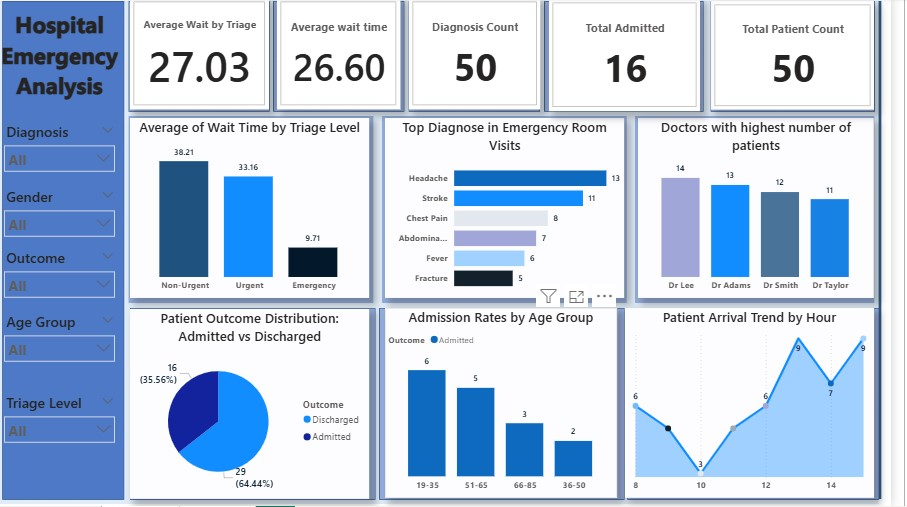

This screenshot's page, from the dashboard's own definition file:
{"tool":"powerbi","page":{"name":"Page 2","canvas":[1280,720],"ordinal":0},"visuals":[{"type":"cardVisual","fields":{"Data":["Measure table.Average Wait by Triage"]},"box":[203.3,0,196.5,157.9],"z":0},{"type":"cardVisual","fields":{"Data":["Measure table.Average wait time"]},"box":[411.5,0,174.7,157.9],"z":1},{"type":"cardVisual","fields":{"Data":["Measure table.Diagnosis Count"]},"box":[598,0,186.5,157.9],"z":2},{"type":"columnChart","title":"Average of Wait Time by Triage Level","fields":{"Category":["Hospital Emergency Data.Triage Level"],"Y":["Hospital Emergency Data.Wait Time (mins)"]},"box":[203.3,169.7,339.3,255.3],"z":3},{"type":"barChart","title":"Top Diagnose in Emergency Room Visits","fields":{"Category":["Hospital Emergency Data.Diagnosis"],"Y":["Hospital Emergency Data.Patient ID"]},"box":[564.4,169.7,339.3,255.3],"z":4},{"type":"columnChart","title":"Doctors with highest number of patients","fields":{"Category":["Hospital Emergency Data.Doctor Name"],"Y":["Hospital Emergency Data.Patient ID"]},"box":[922.2,169.7,334.3,255.3],"z":5},{"type":"pieChart","title":"Patient Outcome Distribution: Admitted vs Discharged","fields":{"Category":["Hospital Emergency Data.Outcome"],"Y":["Hospital Emergency Data.Patient ID"]},"box":[203.3,440.1,339.3,268.8],"z":6},{"type":"columnChart","title":"Admission Rates by Age Group","fields":{"Category":["Hospital Emergency Data.Age Group"],"Series":["Hospital Emergency Data.Outcome"],"Y":["Hospital Emergency Data.Patient ID"]},"box":[564.3,440,328.6,268.6],"z":7},{"type":"areaChart","title":"Patient Arrival Trend by Hour","fields":{"Category":["Hospital Emergency Data.Hours"],"Y":["Hospital Emergency Data.Patient ID"]},"box":[904.3,440,352.9,268.6],"z":8},{"type":"textbox","box":[14.3,10,177.1,148.6],"z":9},{"type":"slicer","fields":{"Values":["Hospital Emergency Data.Diagnosis"]},"box":[14.3,170,177.1,92.9],"z":10},{"type":"slicer","fields":{"Values":["Hospital Emergency Data.Gender"]},"box":[14.3,262.9,177.1,97.1],"z":11},{"type":"slicer","fields":{"Values":["Hospital Emergency Data.Outcome"]},"box":[14.3,348.6,177.1,91.4],"z":12},{"type":"slicer","fields":{"Values":["Hospital Emergency Data.Age Group"]},"box":[14.3,440,177.1,114.3],"z":13},{"type":"slicer","fields":{"Values":["Hospital Emergency Data.Triage Level"]},"box":[14,554,177,155],"z":14},{"type":"cardVisual","fields":{"Data":["Measure table.Total Patient Count"]},"box":[1025.7,4.3,231.4,154.3],"z":15},{"type":"cardVisual","fields":{"Data":["Measure table.Total Admitted"]},"box":[797.1,1.4,214.3,158.6],"z":16}]}

Visuals, with their boxes in screenshot pixels (x1, y1, x2, y2), scaled from the page's 1280x720 canvas onto the 907x507 screenshot:
cardVisual - Measure table.Average Wait by Triage: [x1=144, y1=0, x2=283, y2=111]
cardVisual - Measure table.Average wait time: [x1=292, y1=0, x2=415, y2=111]
cardVisual - Measure table.Diagnosis Count: [x1=424, y1=0, x2=556, y2=111]
"Average of Wait Time by Triage Level" columnChart: [x1=144, y1=119, x2=384, y2=299]
"Top Diagnose in Emergency Room Visits" barChart: [x1=400, y1=119, x2=640, y2=299]
"Doctors with highest number of patients" columnChart: [x1=653, y1=119, x2=890, y2=299]
"Patient Outcome Distribution: Admitted vs Discharged" pieChart: [x1=144, y1=310, x2=384, y2=499]
"Admission Rates by Age Group" columnChart: [x1=400, y1=310, x2=633, y2=499]
"Patient Arrival Trend by Hour" areaChart: [x1=641, y1=310, x2=891, y2=499]
textbox: [x1=10, y1=7, x2=136, y2=112]
slicer - Hospital Emergency Data.Diagnosis: [x1=10, y1=120, x2=136, y2=185]
slicer - Hospital Emergency Data.Gender: [x1=10, y1=185, x2=136, y2=254]
slicer - Hospital Emergency Data.Outcome: [x1=10, y1=245, x2=136, y2=310]
slicer - Hospital Emergency Data.Age Group: [x1=10, y1=310, x2=136, y2=390]
slicer - Hospital Emergency Data.Triage Level: [x1=10, y1=390, x2=135, y2=499]
cardVisual - Measure table.Total Patient Count: [x1=727, y1=3, x2=891, y2=112]
cardVisual - Measure table.Total Admitted: [x1=565, y1=1, x2=717, y2=113]
